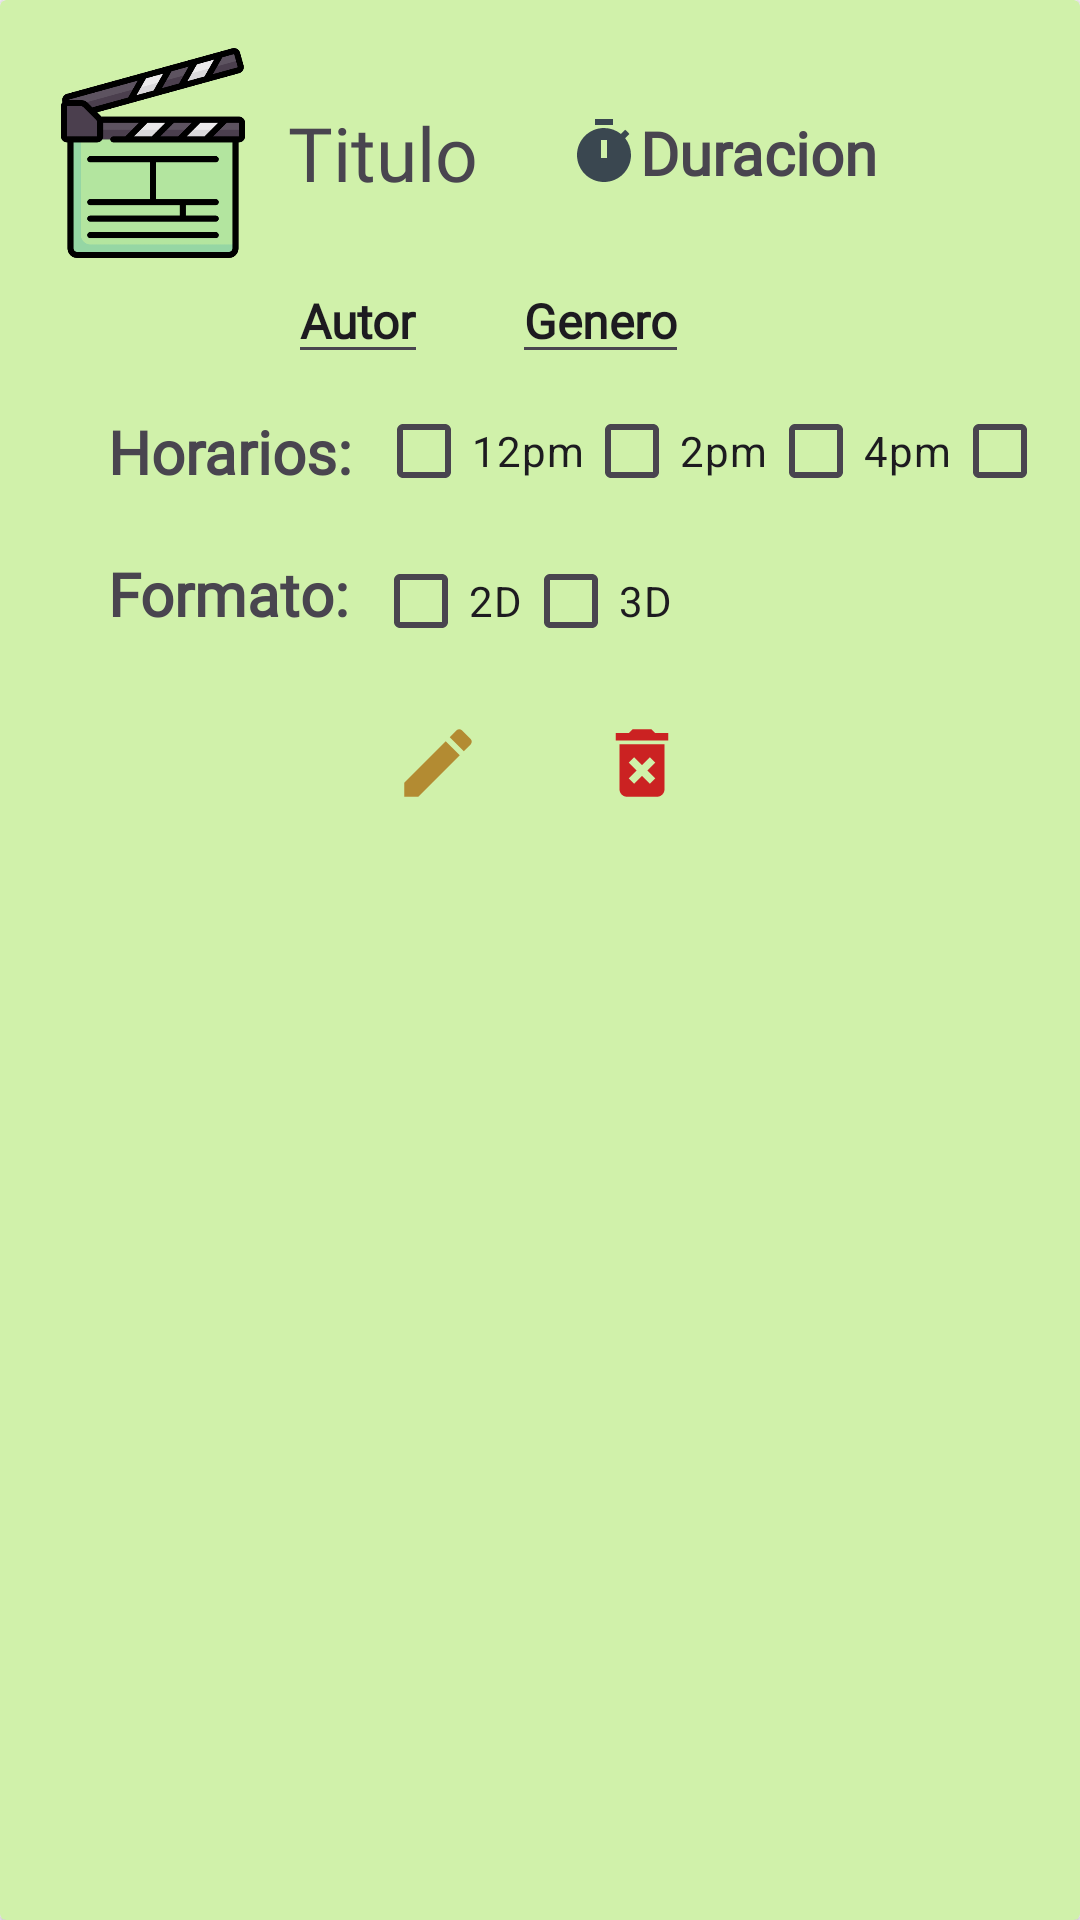

Screen size 1080*1920. Icon name, then its box in pixels as box(x1, y1, x2, y2):
delete: box(615, 729, 669, 797)
edit: box(404, 729, 472, 797)
movie: box(61, 48, 245, 258)
